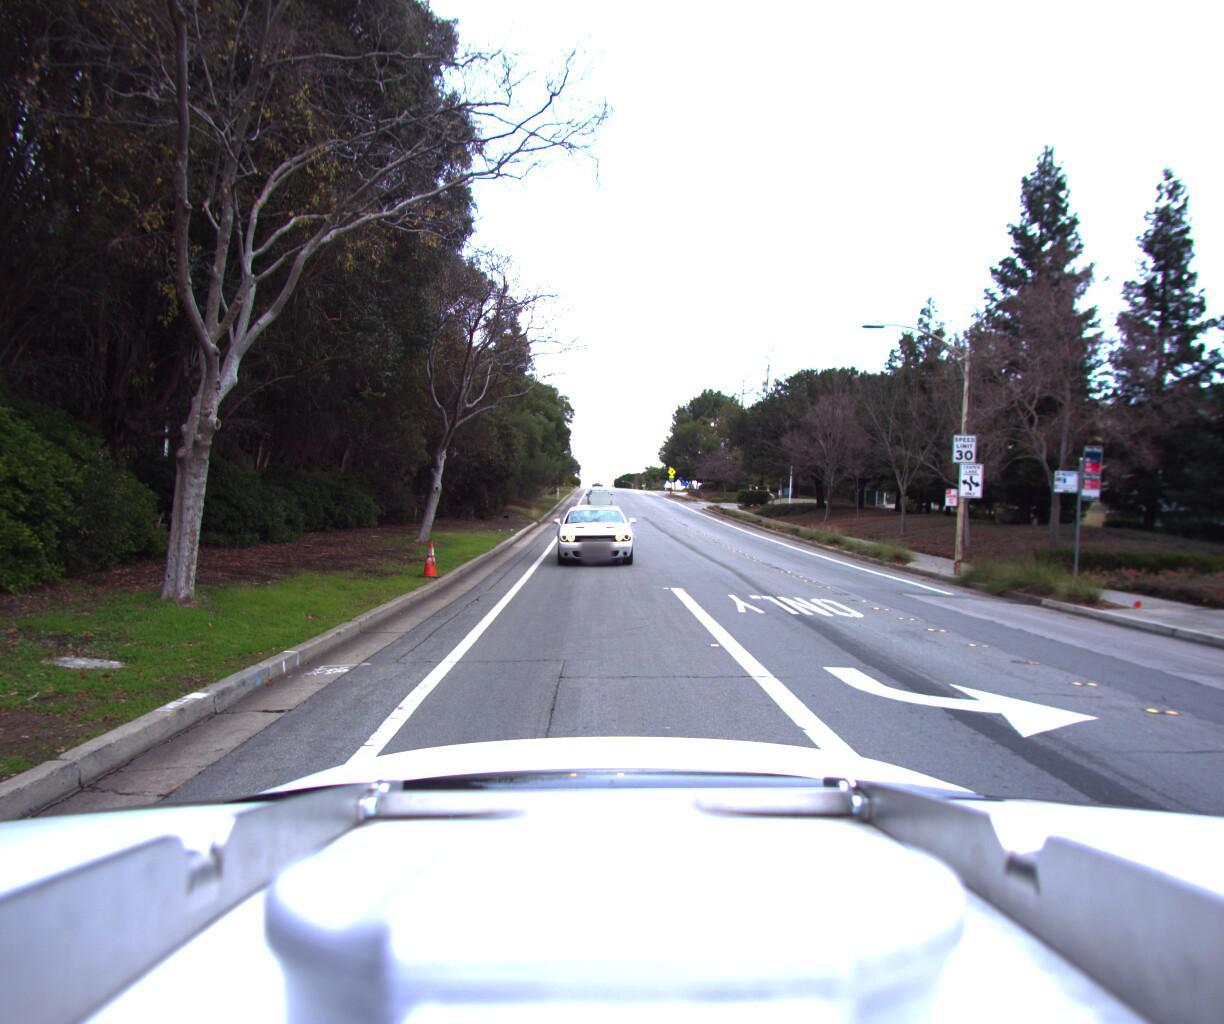car: (552, 501, 639, 578), (586, 490, 614, 515)
